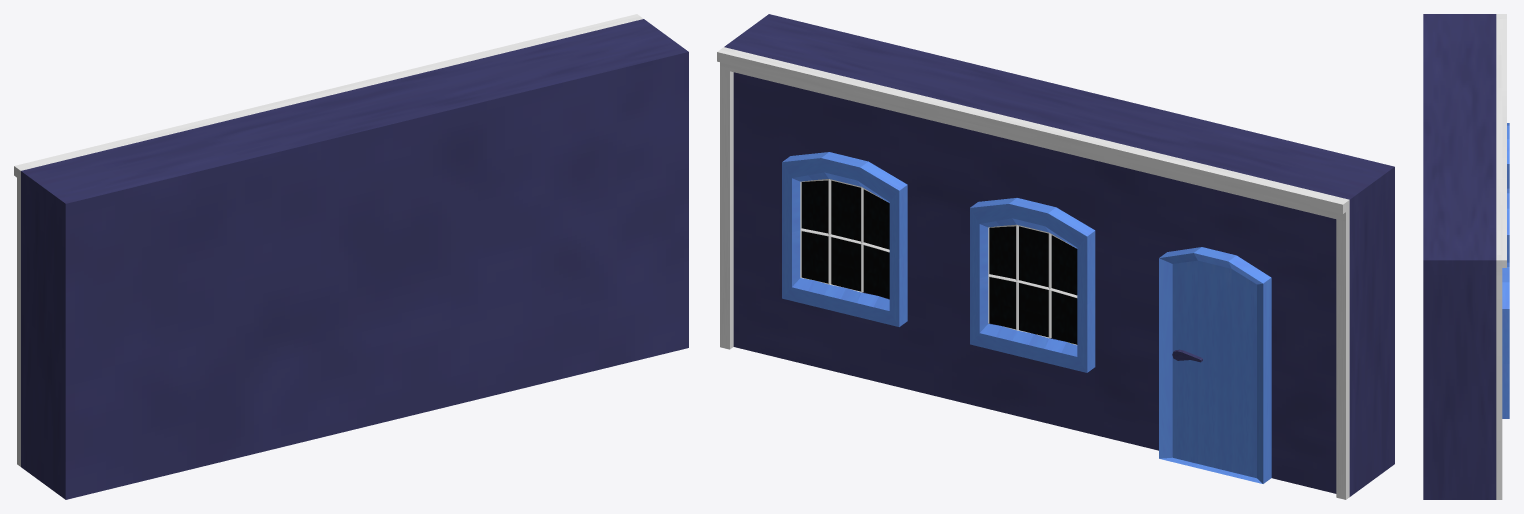
Rendered from casaflo1azul.gltf.
3 views of the same model, side by side, from view 1: azimuth 30°, elevation 25°; view 2: azimuth 150°, elevation 25°; view 3: azimuth 270°, elevation 25° (orthographic). The views are drawn at different scales.
Parts seen in each view (by area): view 1: cuboid; view 2: cuboid (×4); view 3: cuboid (×4).
Boxes of the visible parts, left/top/right/bottom form: cuboid: left=14, top=14, right=688, bottom=499; cuboid (×4): left=717, top=14, right=1394, bottom=499; cuboid (×4): left=1423, top=14, right=1509, bottom=499.
Size of the model in its own units: 3 by 1.36 by 0.4438.
1 material, 1 textured.
